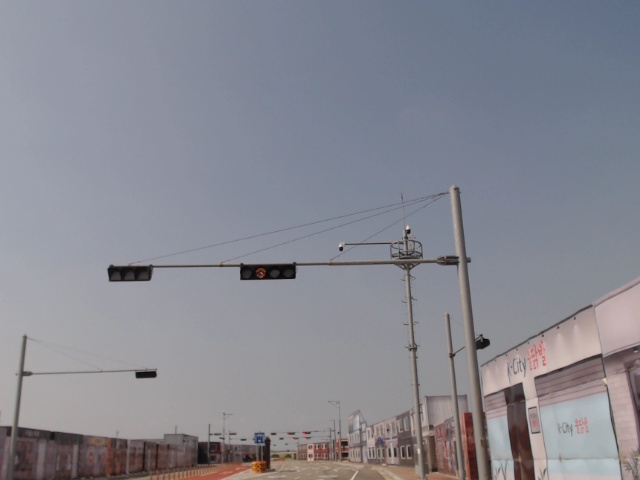orange_4: (240, 265, 297, 281)
